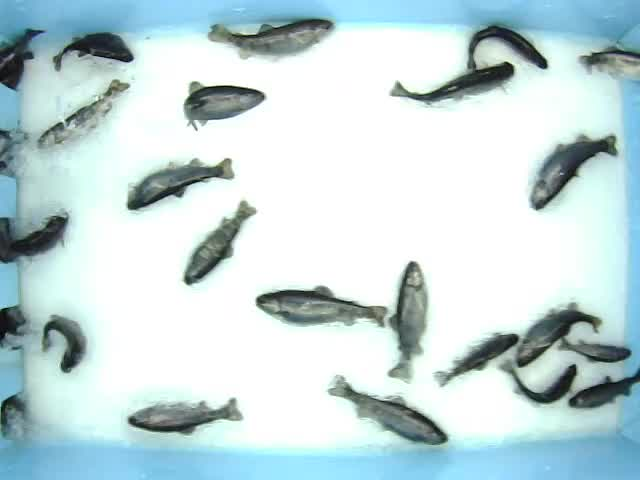fish: (327, 373, 450, 447), (529, 132, 619, 211), (182, 198, 260, 287), (35, 79, 130, 152), (252, 284, 389, 331), (125, 157, 235, 213), (388, 61, 517, 108), (516, 300, 603, 368), (206, 18, 335, 62), (386, 259, 430, 386), (432, 332, 521, 389), (126, 395, 245, 437), (180, 80, 267, 132), (497, 357, 579, 406), (465, 24, 550, 71), (50, 32, 135, 71), (41, 314, 89, 373), (555, 336, 634, 365)
